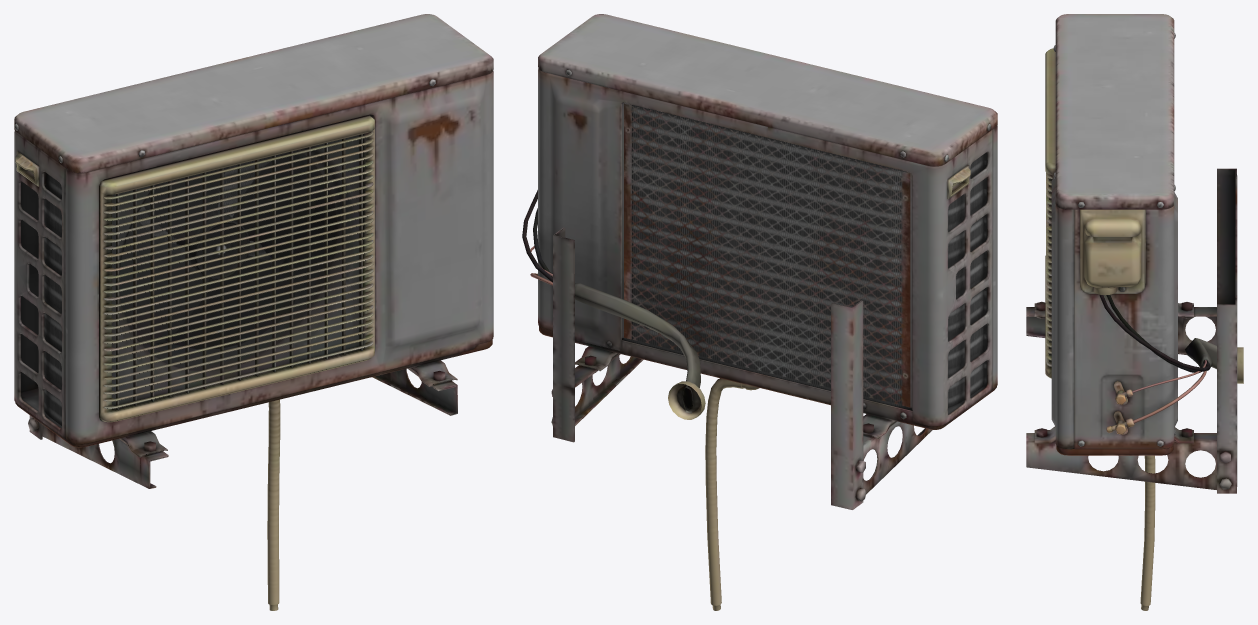
The model's file is exterior_aircon_rusted.glb.
3 views of the same model, side by side, from view 1: azimuth 30°, elevation 25°; view 2: azimuth 150°, elevation 25°; view 3: azimuth 270°, elevation 25° (orthographic). The views are drawn at different scales.
Visible parts, largest first — view 1: exterior_aircon_unit_rusted; view 2: exterior_aircon_unit_rusted; view 3: exterior_aircon_unit_rusted.
Part boxes in pixels (x1=…): exterior_aircon_unit_rusted: x1=14, y1=14, x2=493, y2=610; exterior_aircon_unit_rusted: x1=522, y1=14, x2=997, y2=610; exterior_aircon_unit_rusted: x1=1026, y1=14, x2=1243, y2=610.
Size of the model in its own units: 0.8 by 0.9279 by 0.3742.
2 materials, 2 textured.
